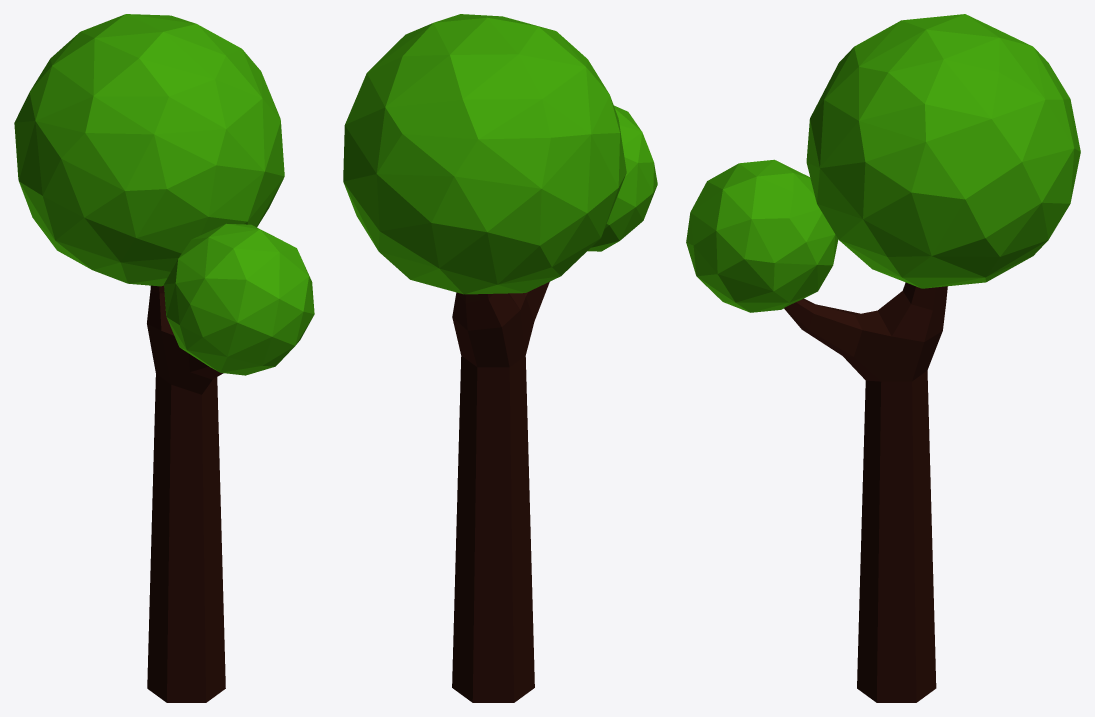
File: Middle tree.FBX
3 views of the same model, side by side, from view 1: azimuth 30°, elevation 25°; view 2: azimuth 150°, elevation 25°; view 3: azimuth 270°, elevation 25° (orthographic). The views are drawn at different scales.
Visible parts, largest first — view 1: Big leaves, Trunk, Small leaves; view 2: Big leaves, Trunk, Small leaves; view 3: Big leaves, Trunk, Small leaves.
Part boxes in pixels (x1,y1,x2,y2): Big leaves: [14, 14, 284, 286]; Trunk: [147, 285, 225, 702]; Small leaves: [164, 223, 314, 375]; Big leaves: [343, 14, 626, 294]; Trunk: [452, 281, 549, 702]; Small leaves: [587, 105, 657, 251]; Big leaves: [806, 14, 1080, 288]; Trunk: [784, 282, 947, 702]; Small leaves: [686, 159, 838, 312].
Bounding box in the file's own units: 1.2 × 3.16 × 1.73.
